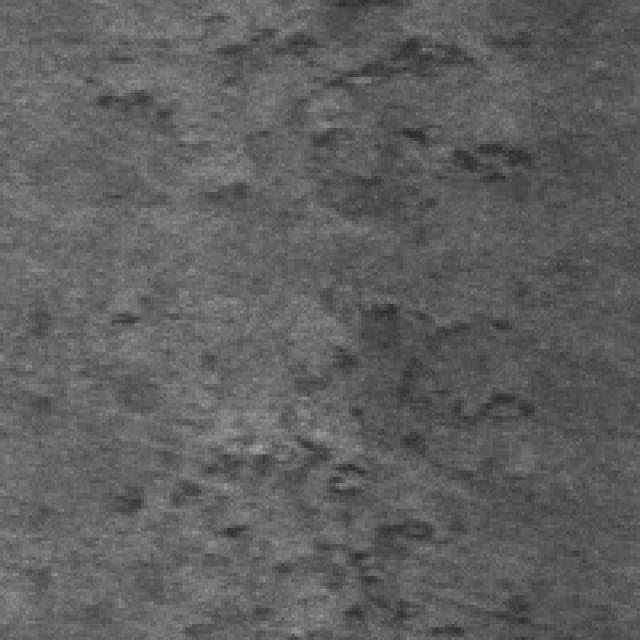rolled-in_scale: (119, 349, 518, 608), (109, 7, 515, 185)
